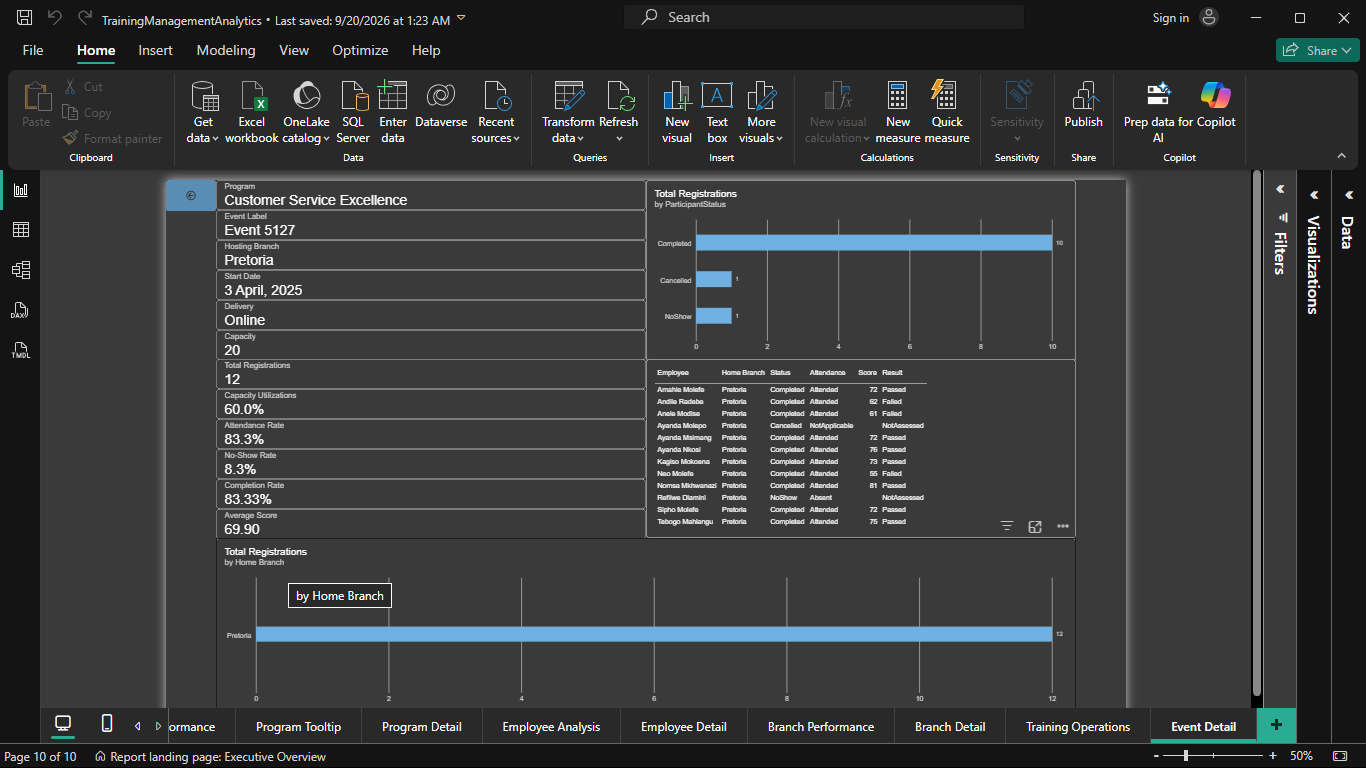

This screenshot's page, from the dashboard's own definition file:
{"tool":"powerbi","page":{"name":"Event Detail","canvas":[1920,1080],"ordinal":9},"visuals":[{"type":"actionButton","box":[0,0,100,62.5],"z":0},{"type":"cardVisual","fields":{"Data":["Min(DimProgram.ProgramName)","Min(DimTrainingEvent.Event Label)","Min(DimHostingBranch.HostingBranchName)","Min(DimTrainingEvent.EventStartDate)","Min(DimTrainingEvent.DeliveryMethod)","Sum(DimTrainingEvent.Capacity)"]},"box":[100,0,860,362.5],"z":0,"group":"g1"},{"type":"group","id":"g1","title":"Group 1","box":[100,0,1720,720],"z":1000},{"type":"cardVisual","fields":{"Data":["FactTraining.Total Registrations","FactTraining.Capacity Utilizations","FactTraining.Attendance Rate","FactTraining.No-Show Rate","FactTraining.Completion Rate","FactTraining.Average Score"]},"box":[100,357.5,860,362.5],"z":1000,"group":"g1"},{"type":"clusteredBarChart","fields":{"Category":["FactTraining.ParticipantStatus"],"Y":["FactTraining.Total Registrations"]},"box":[960,0,860,362.5],"z":2000,"group":"g1"},{"type":"clusteredBarChart","fields":{"Category":["DimBranch.BranchName"],"Y":["FactTraining.Total Registrations"]},"box":[100,715,1720,350],"z":2000},{"type":"tableEx","fields":{"Values":["DimEmployee.EmployeeName","DimBranch.BranchName","FactTraining.ParticipantStatus","FactTraining.AttendanceStatus","FactTraining.Score","FactTraining.Result"]},"box":[960,358.3,860,357.5],"z":3000,"group":"g1"}]}

Visuals, with their boxes on the page's 1920x1080 design canvas (x1, y1, x2, y2). These are canvas units, not pixel positions in the 1366x768 screenshot, which may show the page scaled, cropped or inside an application window:
actionButton: {"left": 0, "top": 0, "right": 100, "bottom": 62}
cardVisual - Min(DimProgram.ProgramName) x Min(DimTrainingEvent.Event Label): {"left": 100, "top": 0, "right": 960, "bottom": 362}
"Group 1" group: {"left": 100, "top": 0, "right": 1820, "bottom": 720}
cardVisual - FactTraining.Total Registrations x FactTraining.Capacity Utilizations: {"left": 100, "top": 358, "right": 960, "bottom": 720}
clusteredBarChart - FactTraining.ParticipantStatus x FactTraining.Total Registrations: {"left": 960, "top": 0, "right": 1820, "bottom": 362}
clusteredBarChart - DimBranch.BranchName x FactTraining.Total Registrations: {"left": 100, "top": 715, "right": 1820, "bottom": 1065}
tableEx - DimEmployee.EmployeeName x DimBranch.BranchName: {"left": 960, "top": 358, "right": 1820, "bottom": 716}
